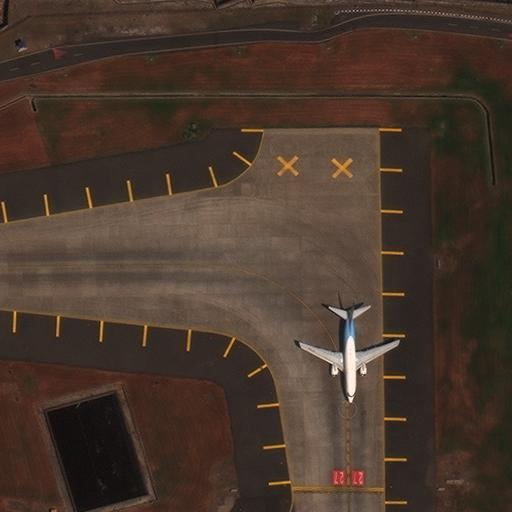Medium Civil Transport: (299, 301, 398, 403)
